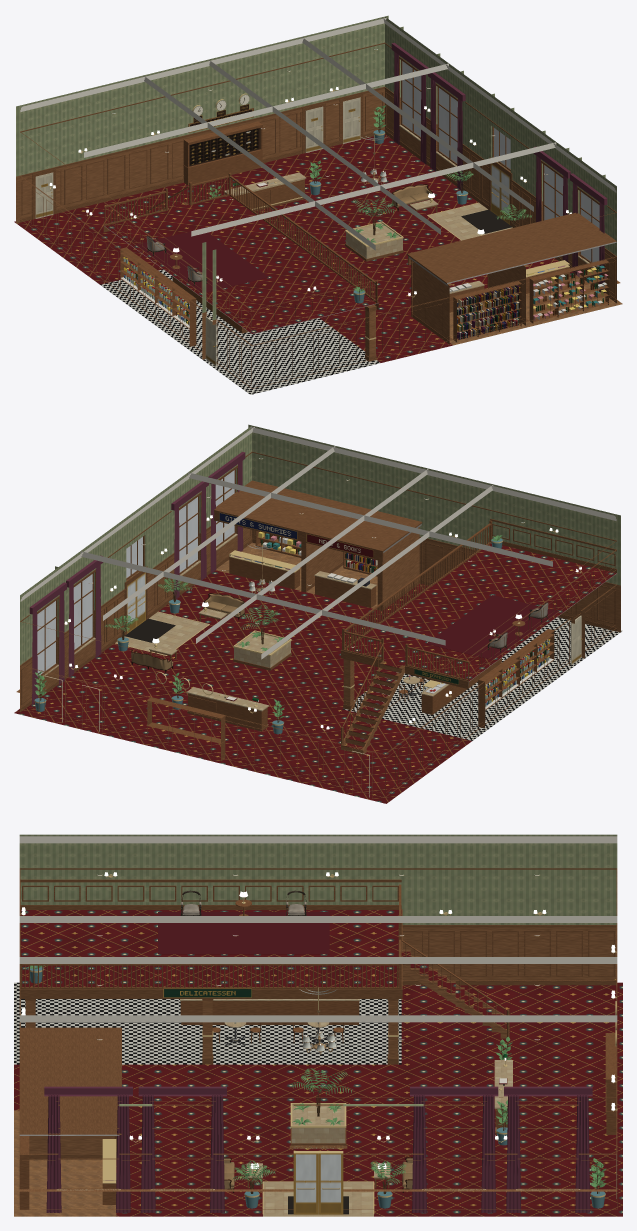
File: lobby.glb
3 renders of one model, top to bottom at view 1: azimuth 30°, elevation 25°; view 2: azimuth 150°, elevation 25°; view 3: azimuth 270°, elevation 25°, orthographic. The views are drawn at different scales.
Parts seen in each view (by area): view 1: Floor_Carpet, Wall_Paper, Trim_Wood, Wall_Panel, Wood_Furniture, Trim_Paint, Floor_Tile, Paint_Palette, Fabric_Drape, Window_Glass, Doors, Marble_Top (+9 smaller); view 2: Floor_Carpet, Wall_Paper, Trim_Wood, Wood_Furniture, Trim_Paint, Wall_Panel, Floor_Tile, Paint_Palette, Fabric_Drape, Window_Glass, Marble_Top, Plant_Leaf (+6 smaller); view 3: Floor_Carpet, Wall_Paper, Trim_Wood, Trim_Paint, Fabric_Drape, Floor_Tile, Wall_Panel, Wood_Furniture, Paint_Palette, Floor_Parquet, Marble_Top, Plant_Leaf (+9 smaller).
Part boxes in pixels (x1,y1,x2,y2): Floor_Carpet: (14,134,576,362); Wall_Paper: (16,15,616,320); Trim_Wood: (20,42,616,388); Wall_Panel: (16,88,620,359); Wood_Furniture: (104,121,609,346); Trim_Paint: (20,17,616,250); Floor_Tile: (100,269,380,394); Paint_Palette: (121,107,608,339); Fabric_Drape: (391,42,607,292); Window_Glass: (402,61,599,266); Doors: (35,97,360,218); Marble_Top: (224,124,598,293); Floor_Carpet: (14,543,616,803); Wall_Paper: (20,424,620,665); Trim_Wood: (20,451,616,797); Wood_Furniture: (146,520,554,760); Trim_Paint: (20,426,616,659); Wall_Panel: (16,526,620,755); Floor_Tile: (342,617,622,740); Paint_Palette: (38,531,558,722); Fabric_Drape: (29,451,245,704); Window_Glass: (37,470,234,676); Marble_Top: (39,533,449,711); Plant_Leaf: (34,535,502,718); Floor_Carpet: (14,910,622,1216); Wall_Paper: (19,834,617,1148); Trim_Wood: (19,868,617,1209); Trim_Paint: (19,836,617,1022); Fabric_Drape: (44,1086,592,1212); Floor_Tile: (14,982,401,1064); Wall_Panel: (19,927,617,1191); Wood_Furniture: (19,884,616,1209); Paint_Palette: (105,912,601,1214); Floor_Parquet: (14,1110,116,1216); Marble_Top: (57,999,580,1190); Plant_Leaf: (26,965,606,1188).
Size of the model in its own units: 20 by 6 by 22.
Materials: 27 (19 with a texture image).
